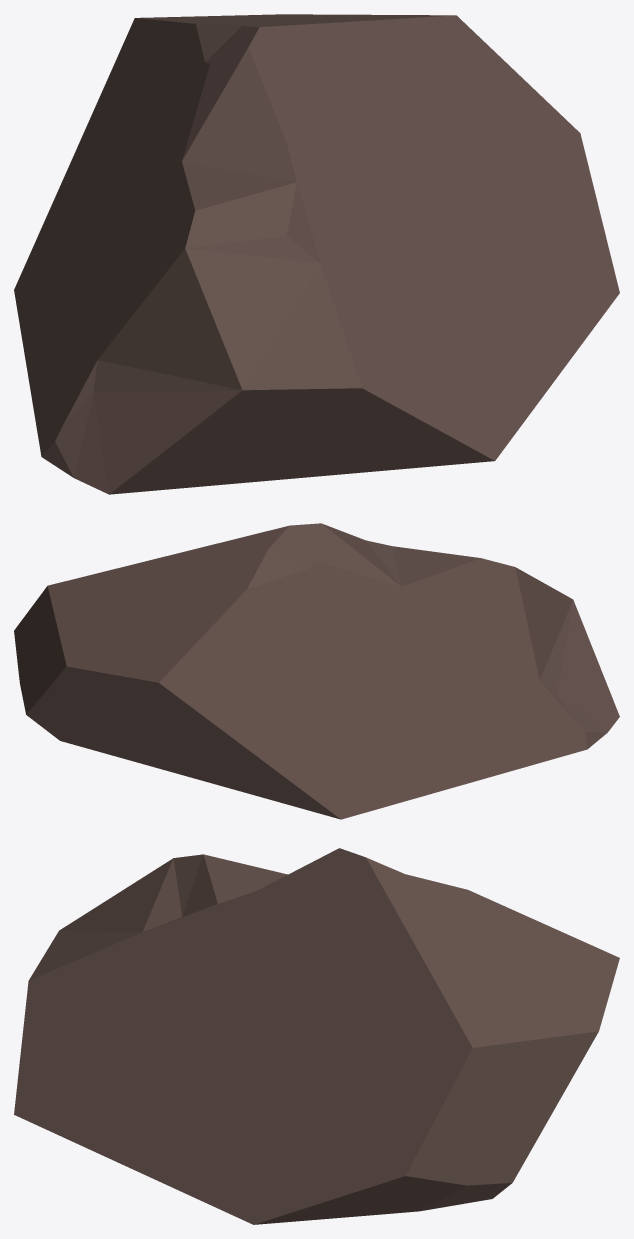
The model's file is Cliff shard 8.fbx.
3 renders of one model, top to bottom at view 1: azimuth 30°, elevation 25°; view 2: azimuth 150°, elevation 25°; view 3: azimuth 270°, elevation 25°, orthographic. The views are drawn at different scales.
Parts seen in each view (by area): view 1: Cliff shard 8; view 2: Cliff shard 8; view 3: Cliff shard 8.
Part boxes in pixels (<box>): Cliff shard 8: <box>14,14,619,494</box>; Cliff shard 8: <box>14,523,619,819</box>; Cliff shard 8: <box>14,848,619,1224</box>.
Bounding box in the file's own units: 1.27 × 0.5364 × 1.2.
